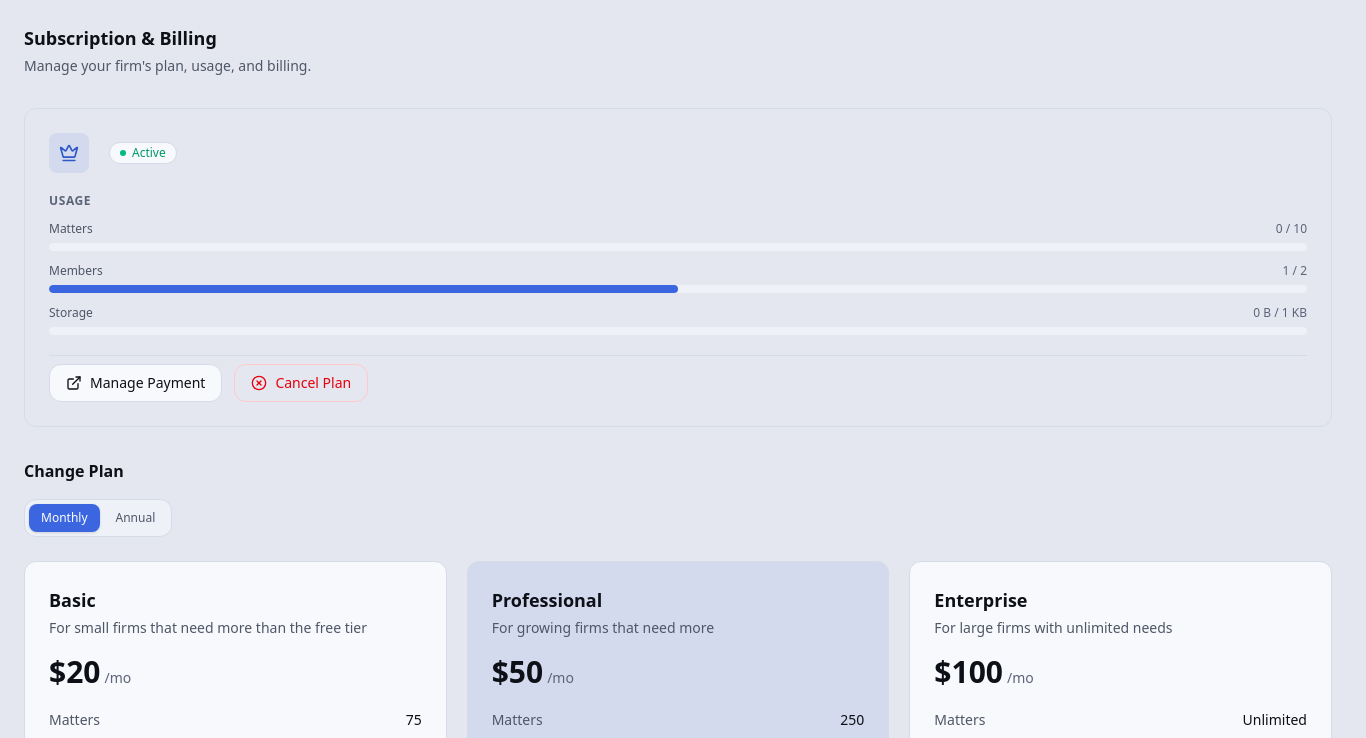
Scenario: after a subscription change › leaves the firm record alone when the cancellation is refused
The width and height of the screenshot is (1366, 738).
Click the button "Cancel Plan".
click(301, 383)  # box [234, 364, 368, 402]
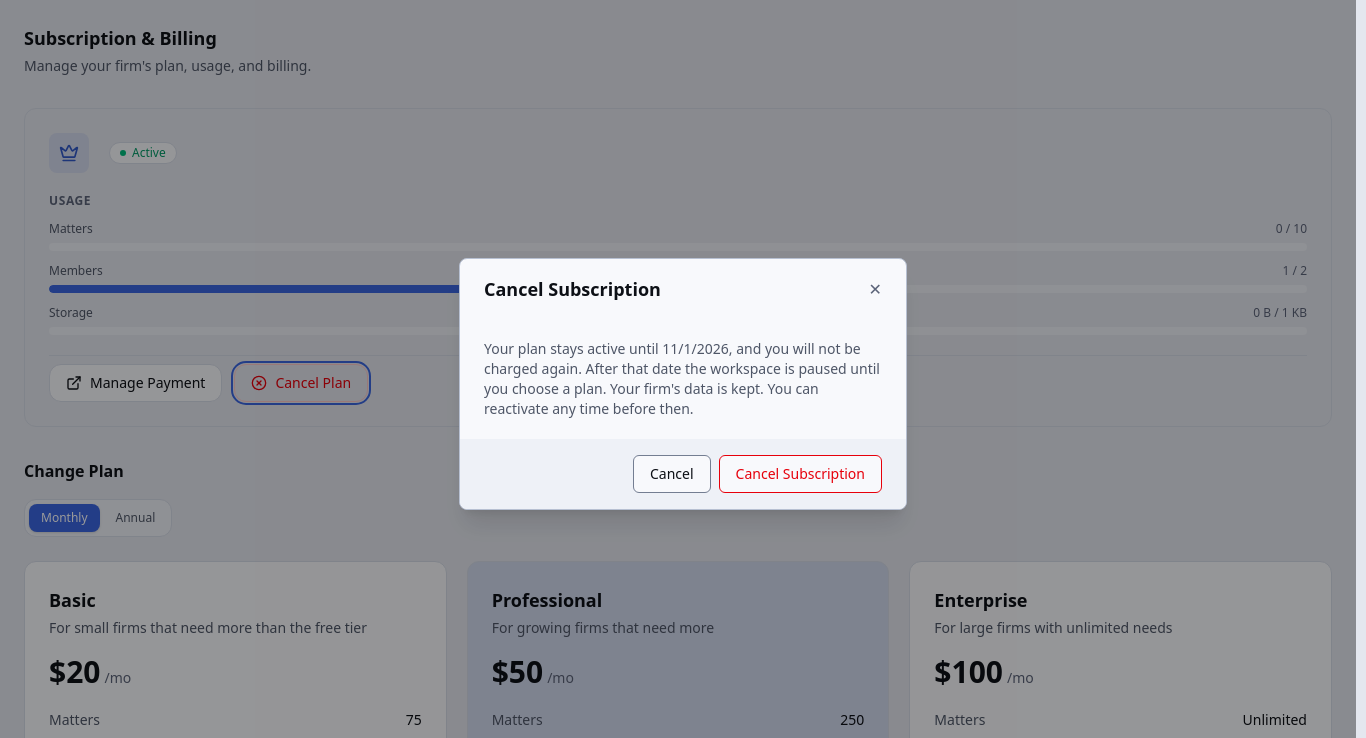
Click the button "Cancel Subscription".
click(800, 474)  # box [719, 455, 882, 493]
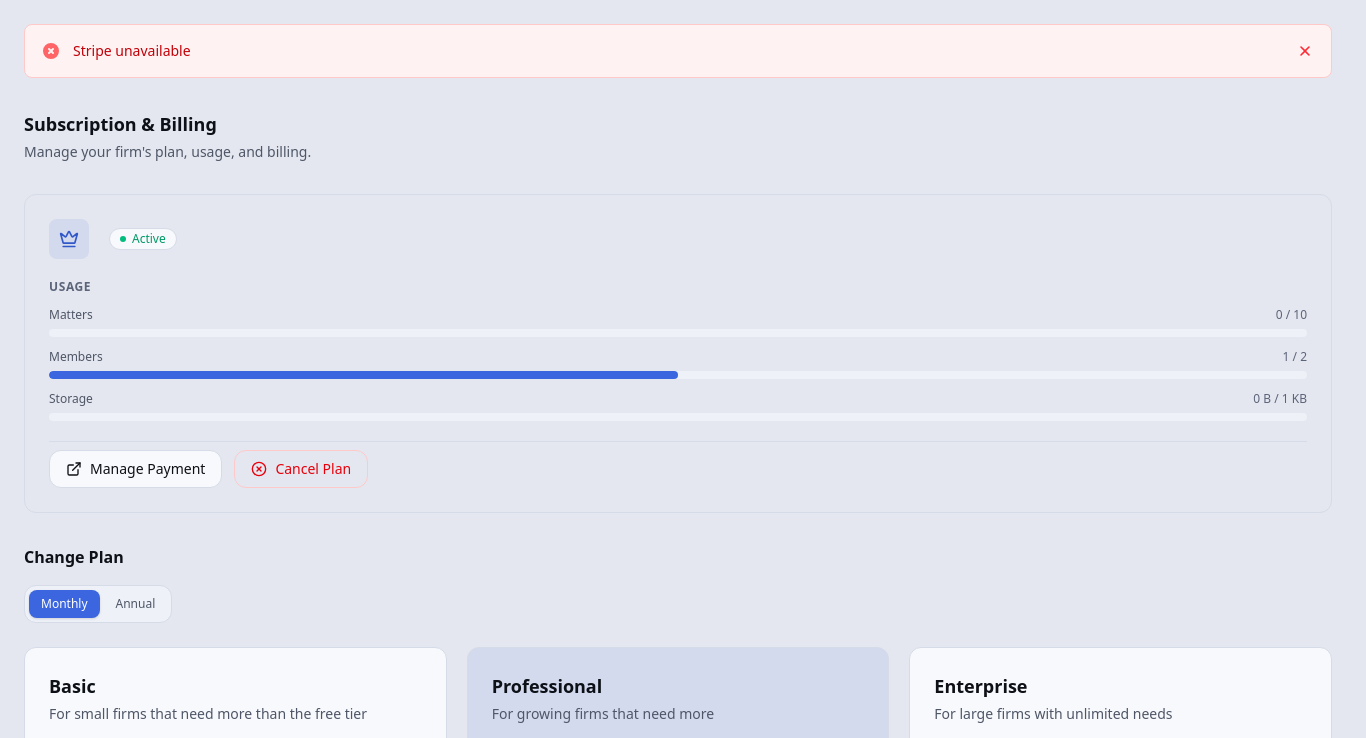
Expected: the text "Stripe unavailable" is shown, [73, 41, 191, 60]
